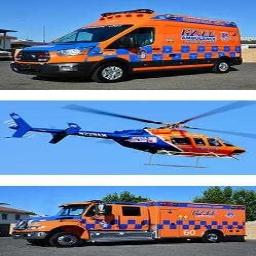ambulance: (11, 9, 241, 81), (13, 200, 245, 246)
